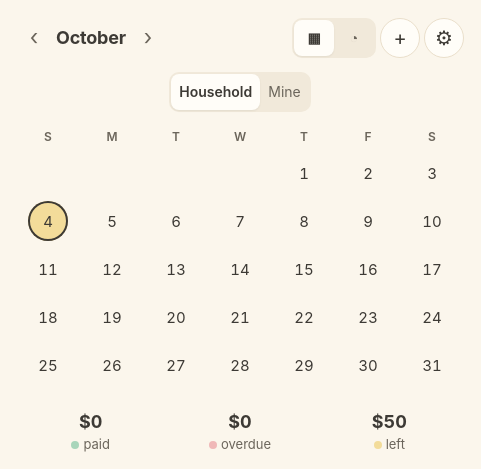
Home › the toggle swaps the calendar for the donut and hides the totals row
expect the element with class "totals" is shown: met, box [71,411,407,452]
Click the button named "Chart view" at (354, 38), box [334,20,374,56]
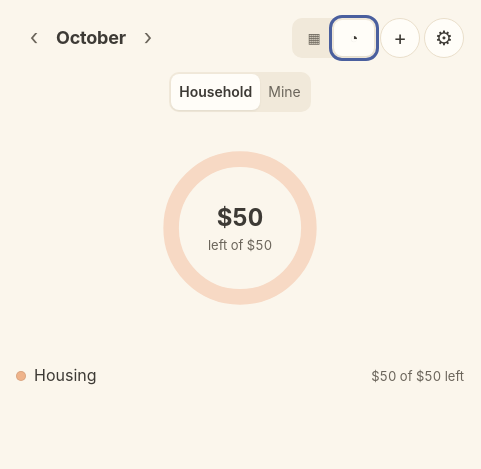
expect the text "left of $50" is shown: met, box [208,236,272,255]
expect the text "Housing" is shown: met, box [16,364,96,387]
expect the element with class "totals" is gone: met
Click the button named "Calendar view" at (314, 38), box [294,20,334,56]
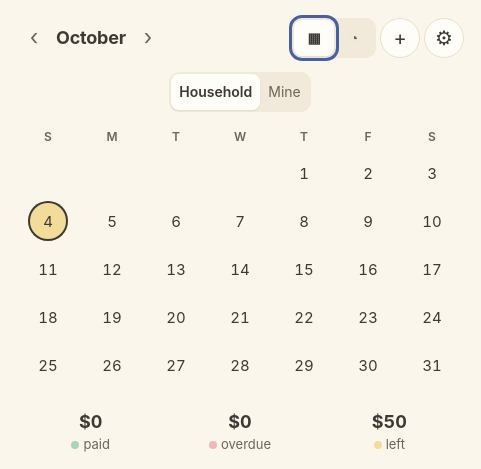
expect the element with class "totals" is shown: met, box [71,411,407,452]
